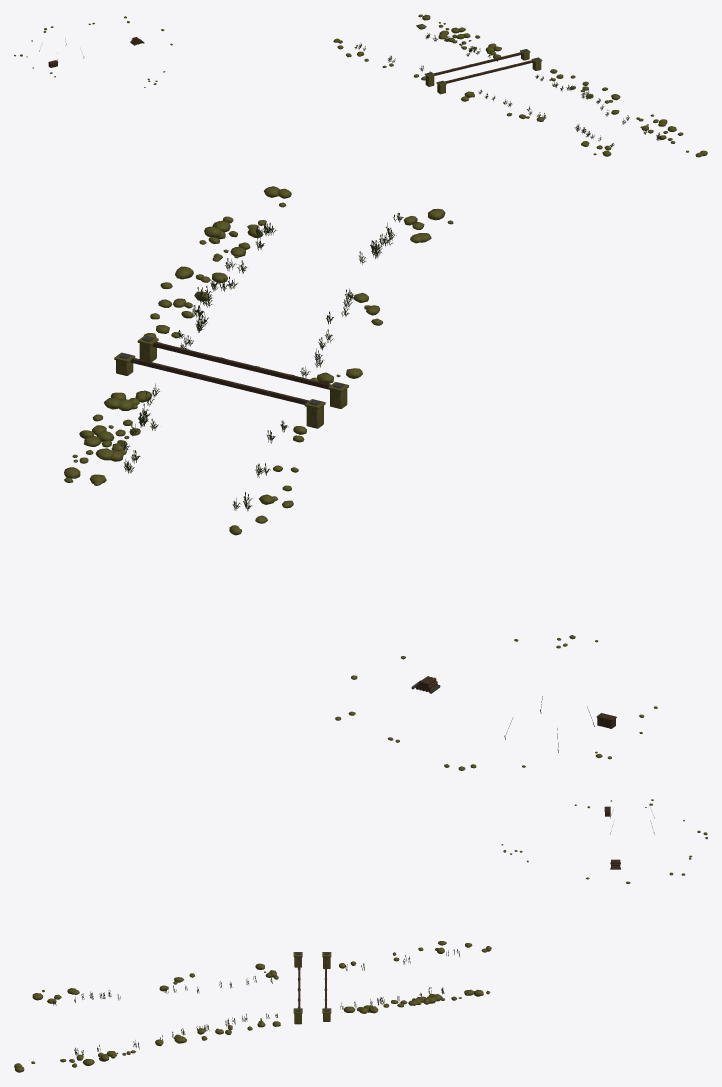
File: river-camp.glb
3 views of the same model, one above another, from view 1: azimuth 30°, elevation 25°; view 2: azimuth 150°, elevation 25°; view 3: azimuth 270°, elevation 25° (orthographic). The views are drawn at different scales.
Size of the model in its own units: 61.87 by 3.51 by 70.53.
1 material, 1 textured.
